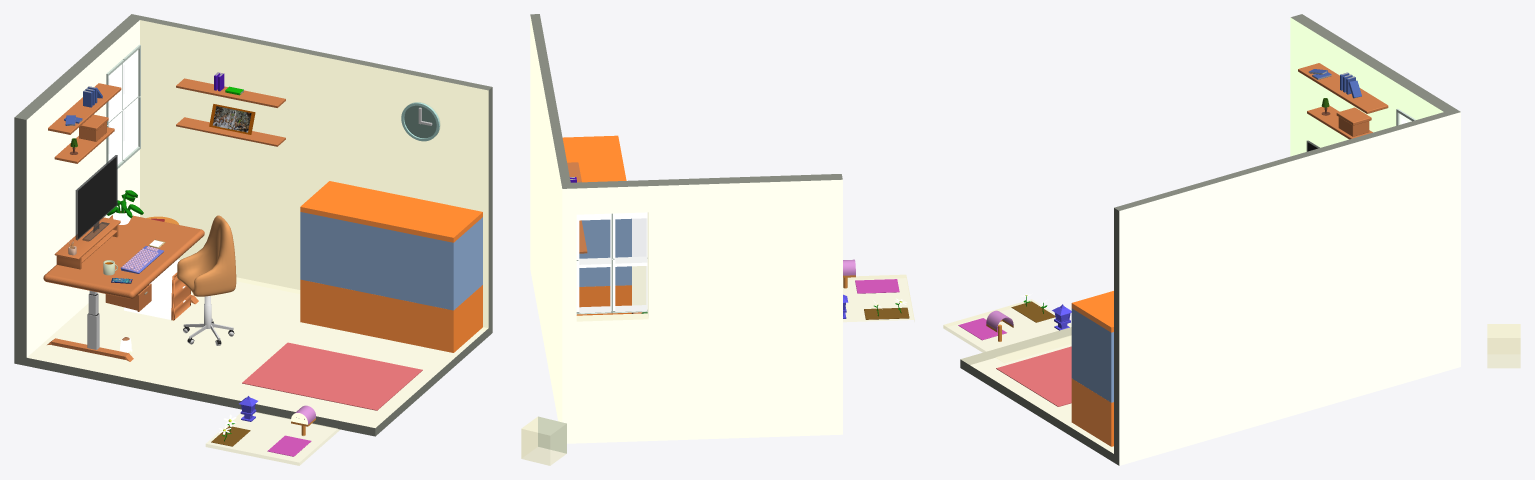
File: FinalFinalRoom1.glb
3 renders of one model, left to right at view 1: azimuth 30°, elevation 25°; view 2: azimuth 150°, elevation 25°; view 3: azimuth 270°, elevation 25°, orthographic. The views are drawn at different scales.
Parts seen in each view (by area): view 1: Wall, Aquarium box, Aquarium water, Floor items, Desks, Shlefs, Extra Floor, Desk stuff, Chair sit, computer screen, Clock, Ground; view 2: Wall, Aquarium box, Aquarium water, Extra Floor, Cube, Ground, Shlefs; view 3: Wall, Extra Floor, Shlefs, Aquarium water, Aquarium box, Floor items, Cube, Ground.
Part boxes in pixels (left/top/right/bottom): Wall: left=14, top=14, right=492, bottom=436; Aquarium box: left=300, top=181, right=482, bottom=352; Aquarium water: left=300, top=212, right=482, bottom=310; Floor items: left=120, top=259, right=422, bottom=410; Desks: left=43, top=215, right=204, bottom=361; Shlefs: left=48, top=72, right=285, bottom=163; Extra Floor: left=205, top=396, right=340, bottom=465; Desk stuff: left=54, top=190, right=165, bottom=283; Chair sit: left=177, top=215, right=236, bottom=296; computer screen: left=75, top=155, right=117, bottom=241; Clock: left=401, top=102, right=440, bottom=141; Ground: left=211, top=426, right=311, bottom=456; Wall: left=530, top=14, right=842, bottom=443; Aquarium box: left=562, top=135, right=631, bottom=315; Aquarium water: left=579, top=218, right=631, bottom=286; Extra Floor: left=843, top=274, right=914, bottom=322; Cube: left=521, top=416, right=566, bottom=465; Ground: left=855, top=279, right=909, bottom=319; Shlefs: left=567, top=162, right=587, bottom=253; Wall: left=960, top=14, right=1460, bottom=465; Extra Floor: left=943, top=293, right=1071, bottom=362; Shlefs: left=1298, top=63, right=1388, bottom=139; Aquarium water: left=1071, top=308, right=1113, bottom=402; Aquarium box: left=1071, top=291, right=1113, bottom=446; Floor items: left=996, top=346, right=1071, bottom=406; Cube: left=1487, top=324, right=1520, bottom=368; Ground: left=958, top=301, right=1055, bottom=340.
Bounding box in the file's own units: 15.58 × 9.5 × 19.29.
54 materials, 2 textured.
